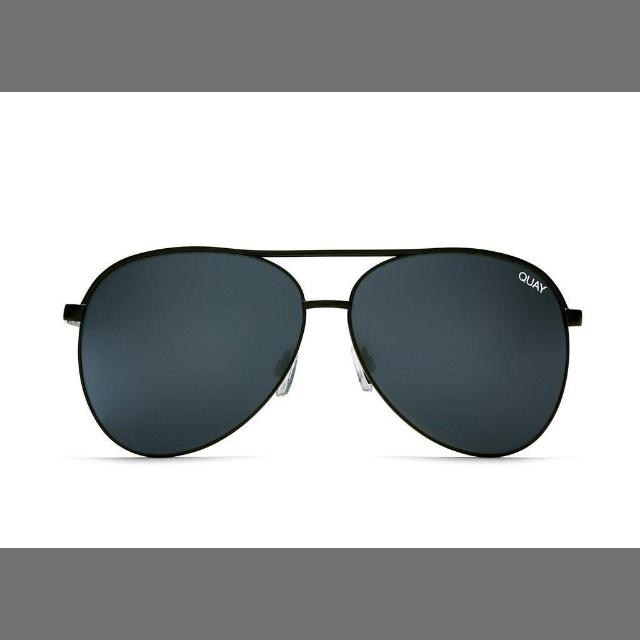Sunglasses: (50, 228, 614, 472)
